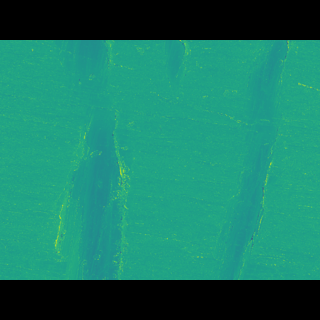Loch: (208, 69, 319, 249), (31, 69, 134, 250), (158, 69, 191, 111)
